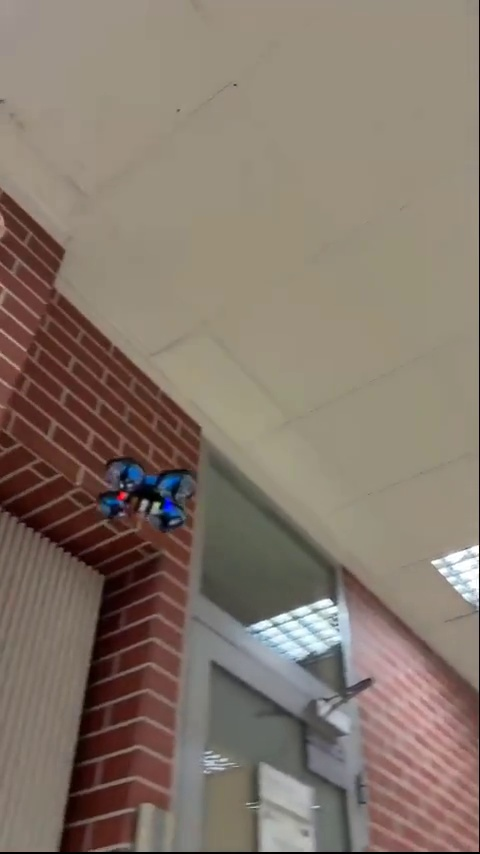drone: (93, 454, 194, 535)
